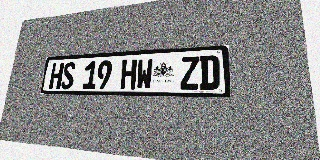1: (82, 61, 98, 89)
9: (96, 60, 112, 89)
D: (200, 55, 220, 90)
H: (120, 59, 137, 89), (49, 63, 64, 89)
S: (60, 62, 76, 89)
W: (136, 58, 153, 89)
Z: (180, 56, 199, 89)
